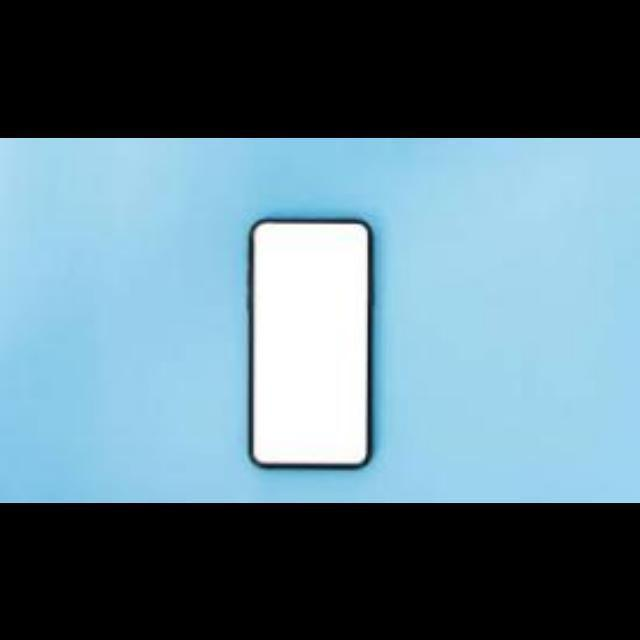phone: (247, 216, 371, 468)
